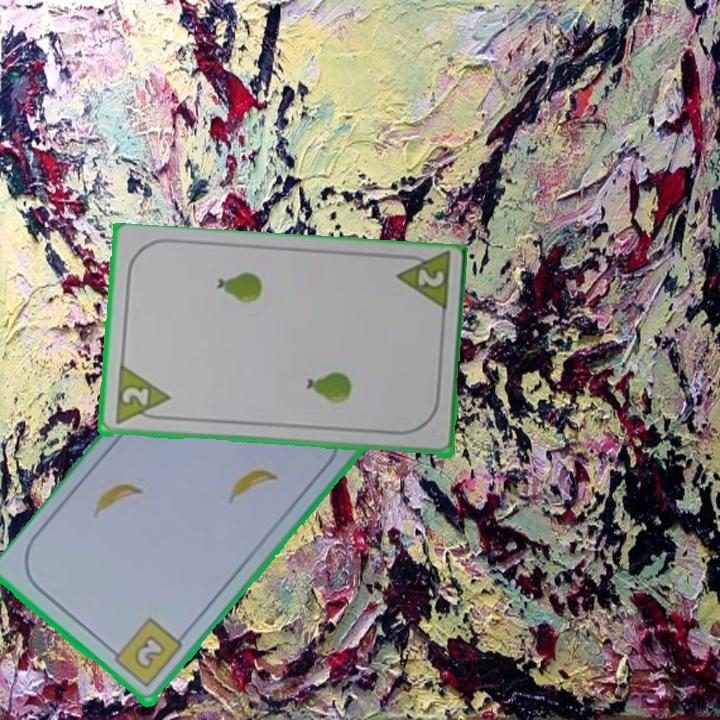2b: (105, 615, 186, 692)
2p: (391, 250, 453, 318), (111, 364, 172, 428)
